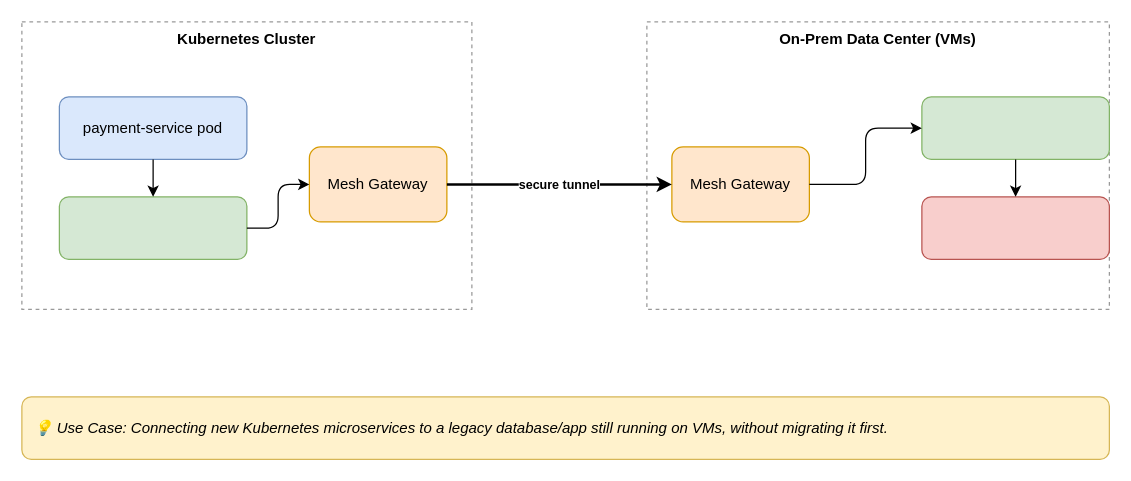
Image size: 1131x481. Some labels were removed from this diagram. The centre of each missing label's shape, as x and y in pixels:
"Consul Client Agent on VM" goes at pixel 1015 127.
"Legacy Database on VM" goes at pixel 1015 227.
"Sidecar" goes at pixel 152 227.
